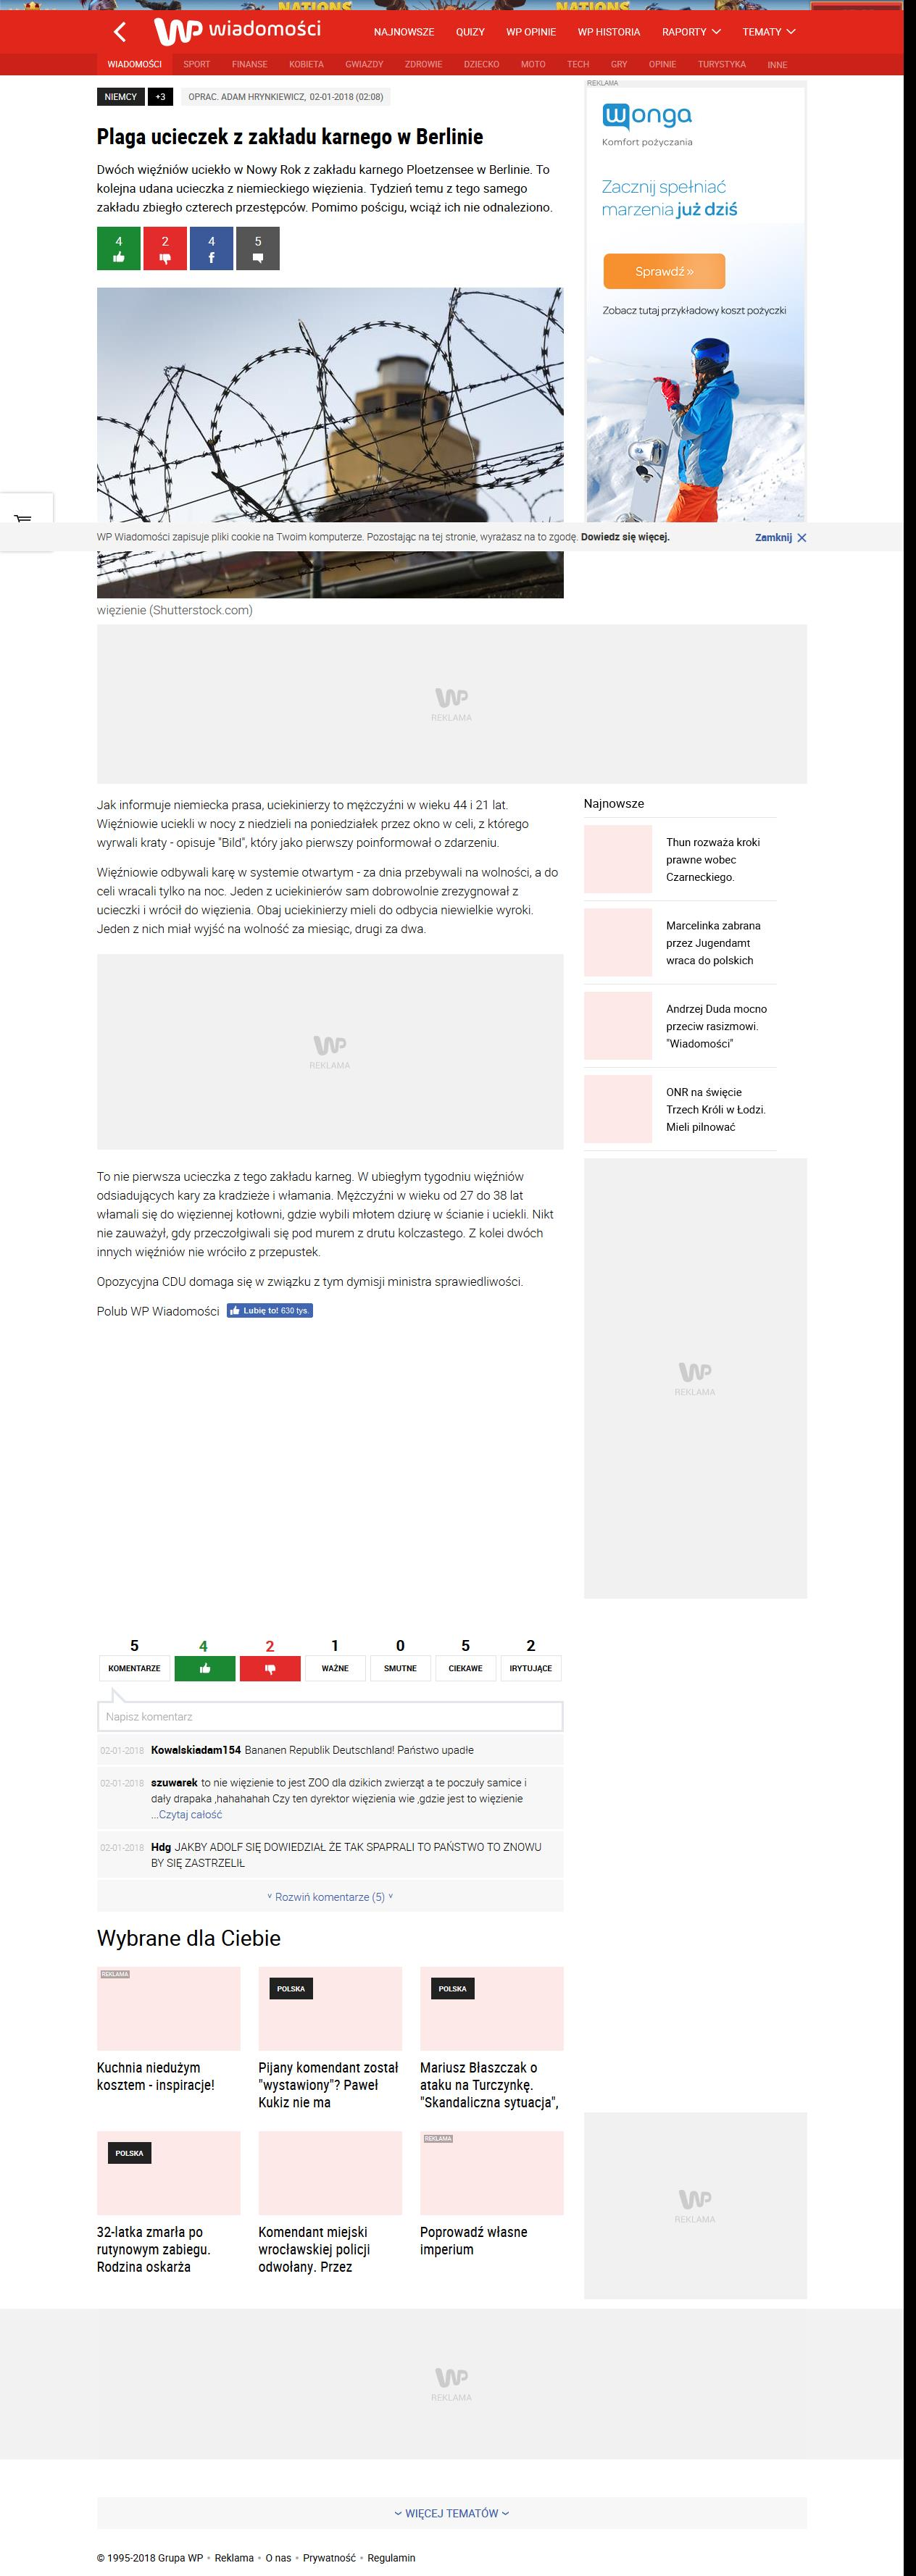title: (97, 127, 482, 148)
